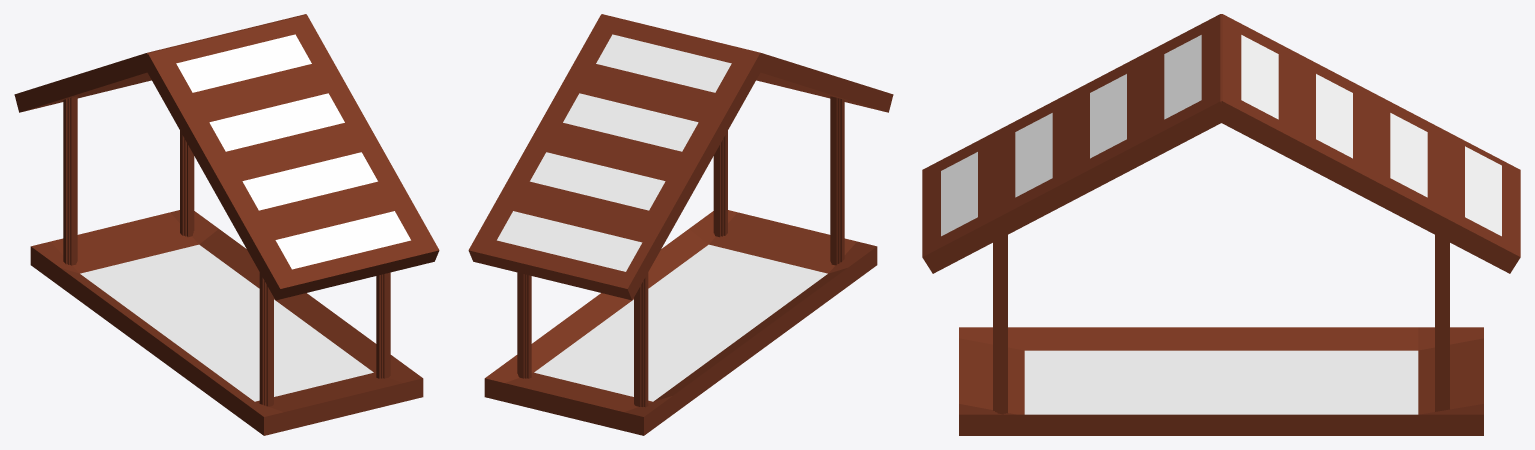
File: jap05.fbx
3 views of the same model, side by side, from view 1: azimuth 30°, elevation 25°; view 2: azimuth 150°, elevation 25°; view 3: azimuth 270°, elevation 25° (orthographic). The views are drawn at different scales.
Parts seen in each view (by area): view 1: Cube.002, Cube, Cylinder, Cylinder.001, Cylinder.002, Cylinder.003; view 2: Cube.002, Cube, Cylinder.001, Cylinder, Cylinder.003, Cylinder.002; view 3: Cube.002, Cube, Cylinder.002, Cylinder.003.
Boxes of the visible parts, left/top/right/bottom form: Cube.002: left=14, top=14, right=439, bottom=300; Cube: left=30, top=210, right=423, bottom=435; Cylinder: left=63, top=96, right=77, bottom=265; Cylinder.001: left=259, top=272, right=273, bottom=406; Cylinder.002: left=376, top=272, right=390, bottom=378; Cylinder.003: left=180, top=131, right=194, bottom=237; Cube.002: left=468, top=14, right=893, bottom=300; Cube: left=484, top=210, right=877, bottom=435; Cylinder.001: left=830, top=96, right=844, bottom=265; Cylinder: left=634, top=272, right=648, bottom=407; Cylinder.003: left=517, top=272, right=531, bottom=378; Cylinder.002: left=713, top=131, right=727, bottom=237; Cube.002: left=922, top=14, right=1520, bottom=273; Cube: left=959, top=327, right=1483, bottom=435; Cylinder.002: left=993, top=235, right=1007, bottom=414; Cylinder.003: left=1435, top=235, right=1449, bottom=411.
Size of the model in its own units: 327 by 585 by 948.
